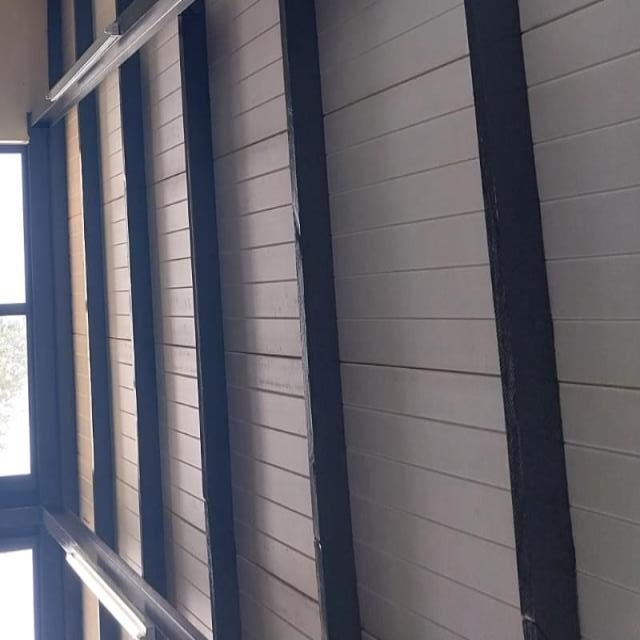fluorescent tube: (24, 0, 132, 139), (46, 522, 154, 640)
